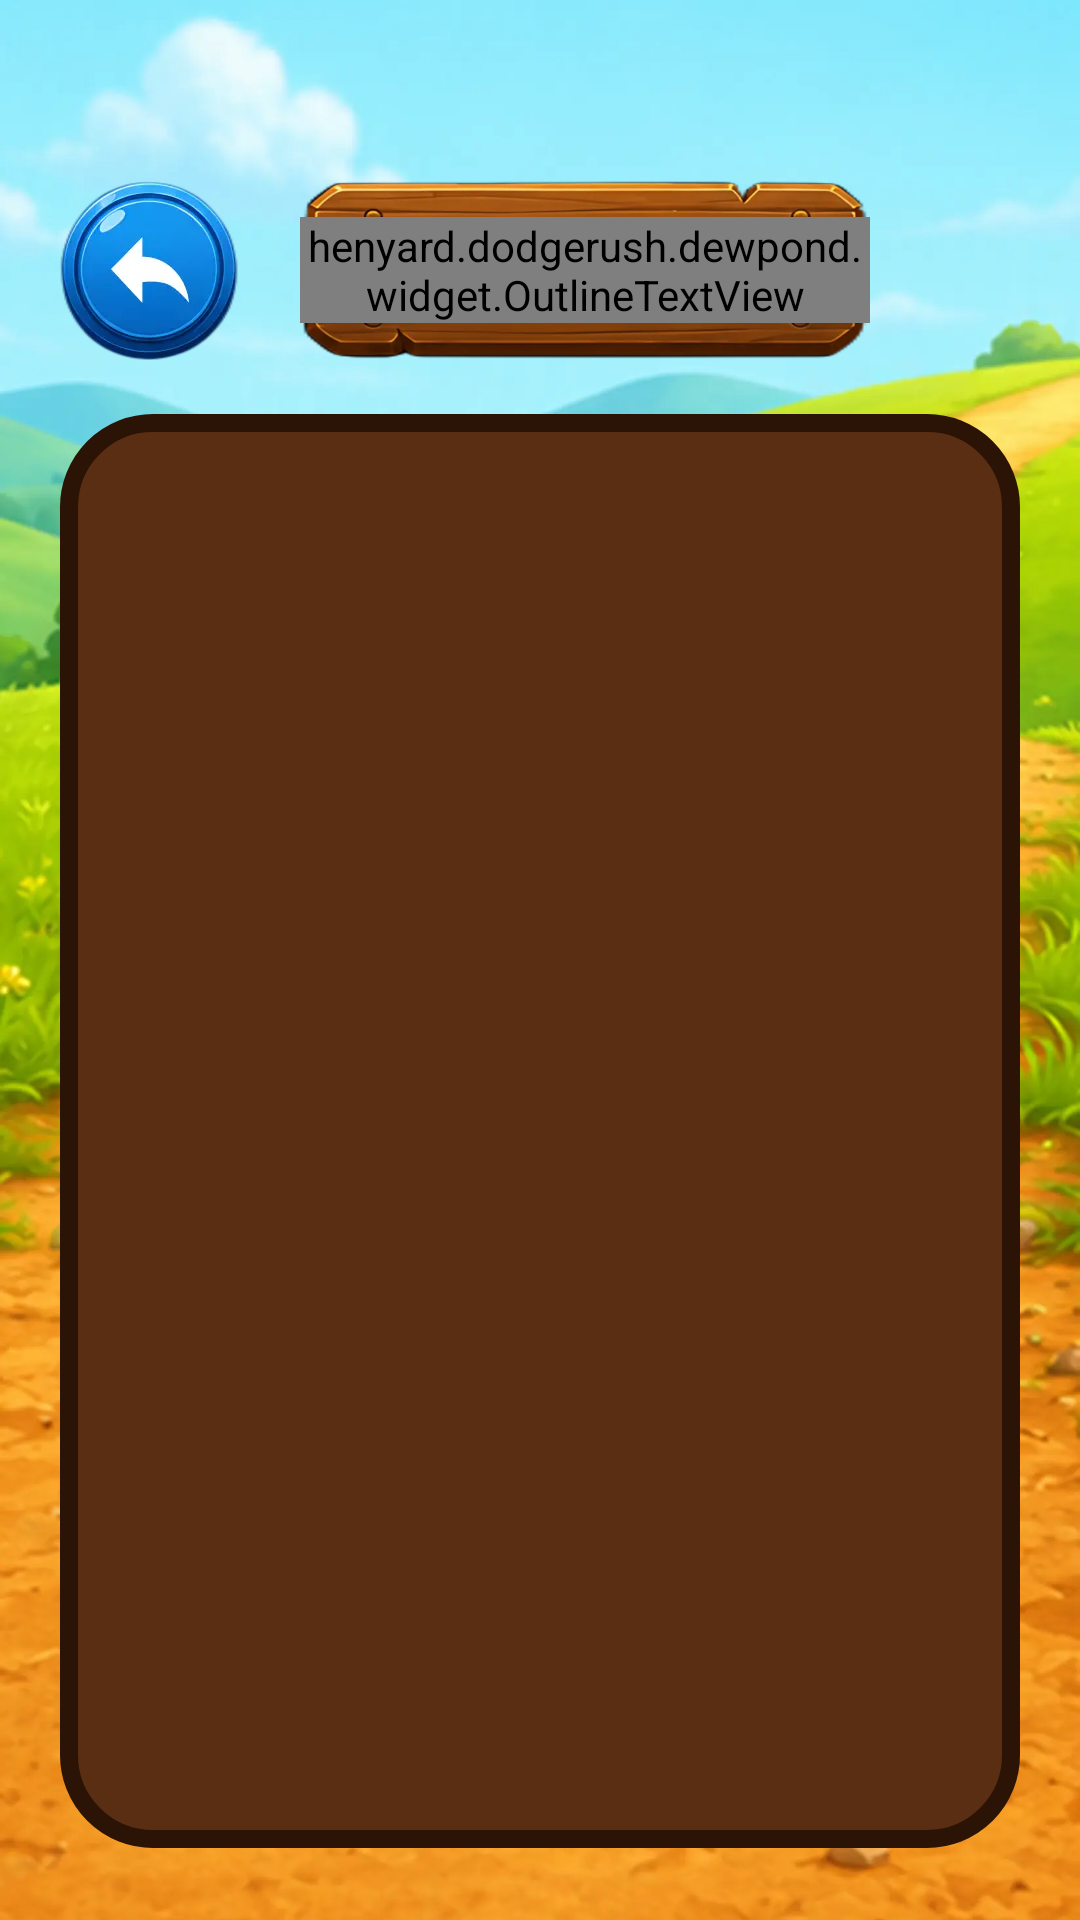

Point at icon controls on the screen. Image size 1080x1920, points as (x,y).
Back: (149,271)
